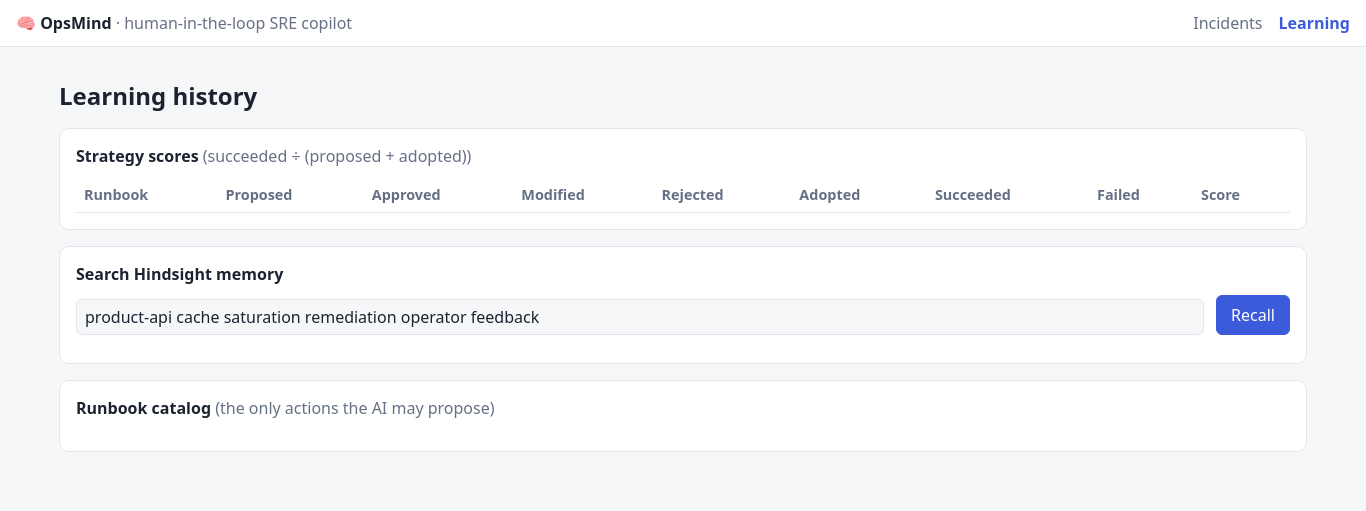
Test: learning page › reports memory search failures
Click the button "Recall" at [1253, 315], box [1216, 295, 1290, 335]
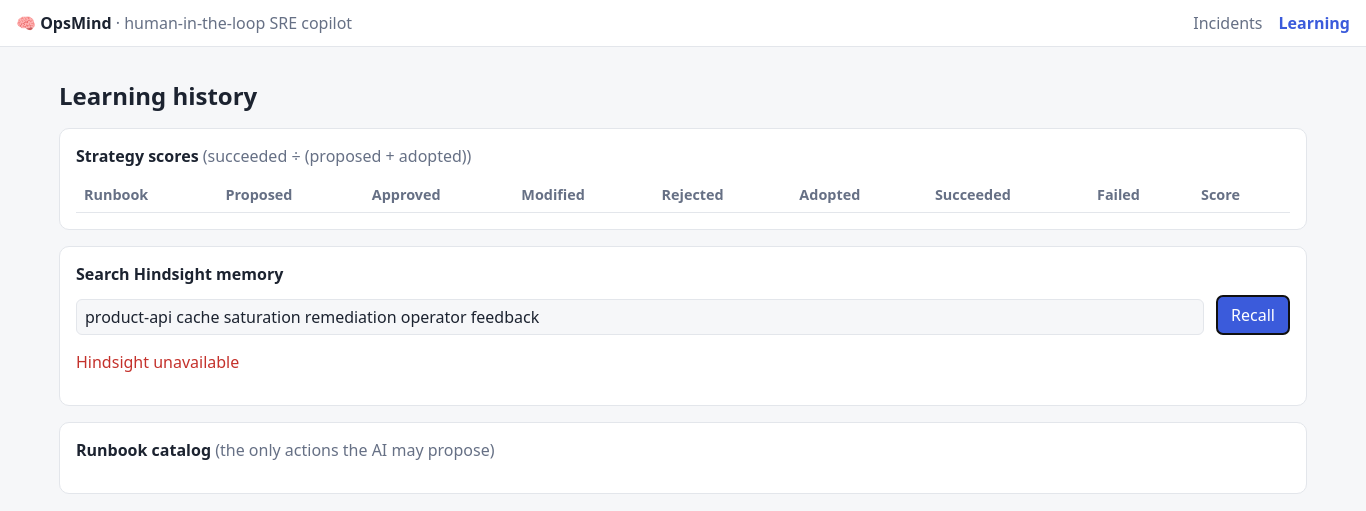
Result: the text "Hindsight unavailable" is shown at [76, 351, 239, 373]
